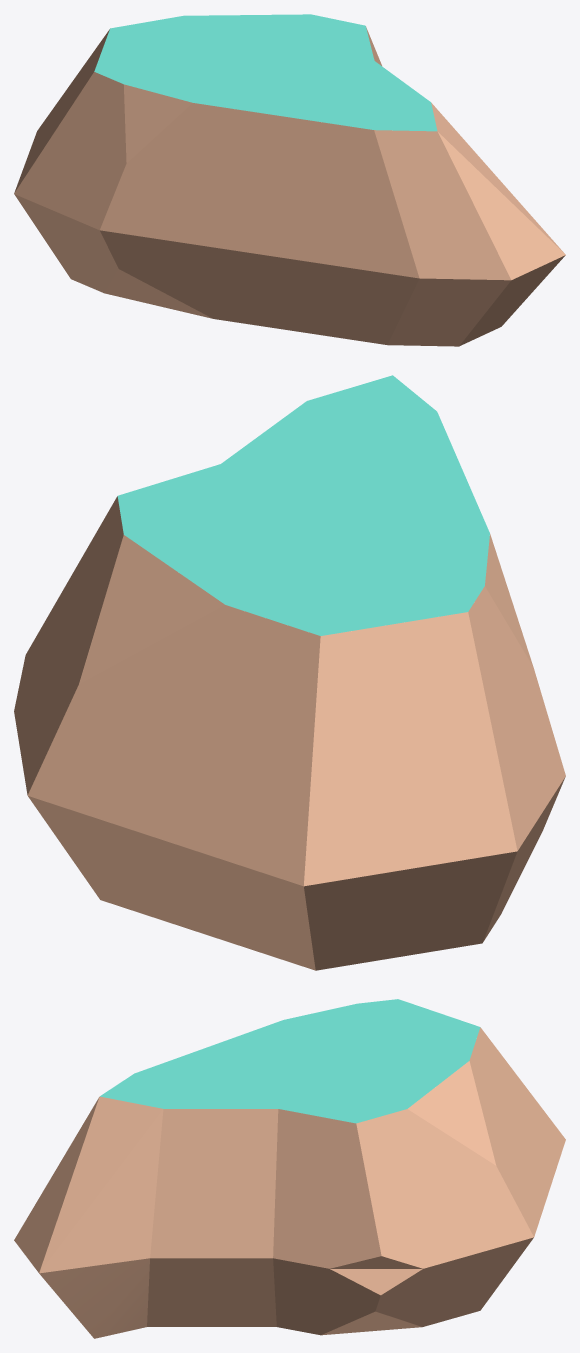
Rendered from rock_largeB.glb.
3 views of the same model, one above another, from view 1: azimuth 30°, elevation 25°; view 2: azimuth 150°, elevation 25°; view 3: azimuth 270°, elevation 25° (orthographic). The views are drawn at different scales.
Parts seen in each view (by area): view 1: rock_largeB; view 2: rock_largeB; view 3: rock_largeB.
Boxes of the visible parts, box(x1,y1,x2,y2) form: rock_largeB: box(14, 14, 565, 346); rock_largeB: box(14, 375, 565, 970); rock_largeB: box(14, 999, 565, 1338).
Bounding box in the file's own units: 0.7667 × 0.4303 × 1.02.
